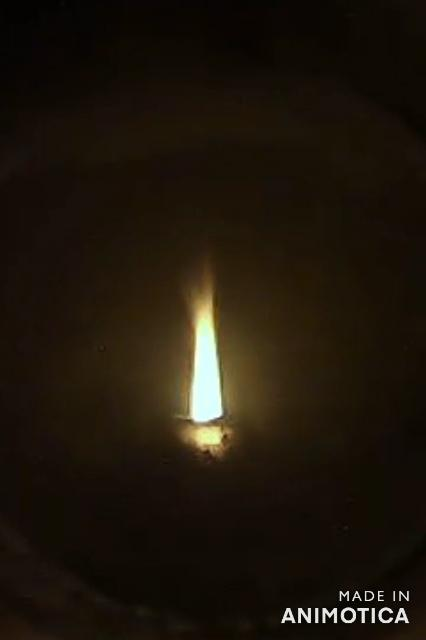burner flame: (180, 253, 228, 427)
